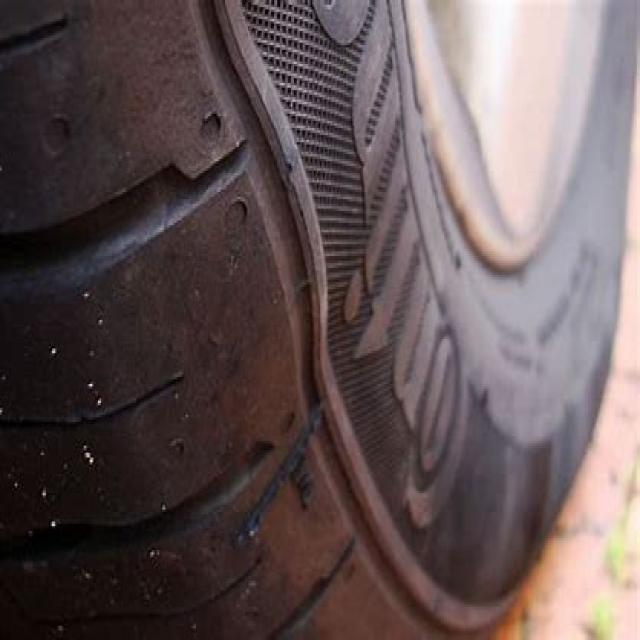Bulge: (225, 93, 378, 402)
